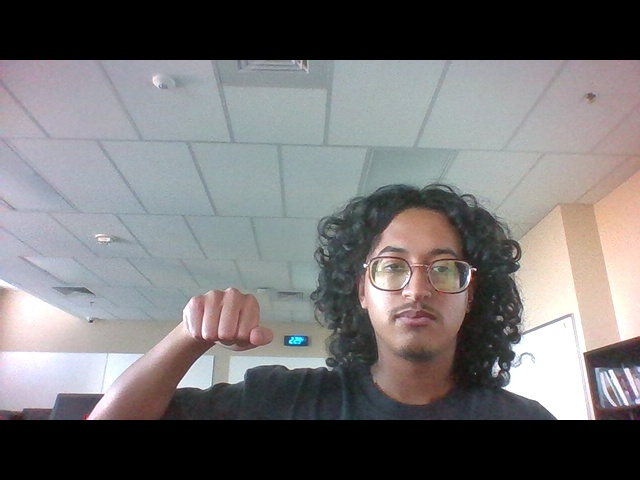yes: (176, 279, 288, 356)
